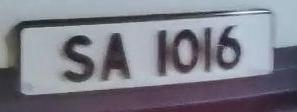0: (167, 22, 203, 78)
1: (152, 23, 173, 85), (198, 19, 218, 79)
6: (213, 19, 247, 79)
A: (96, 27, 136, 87)
S: (59, 30, 101, 89)
